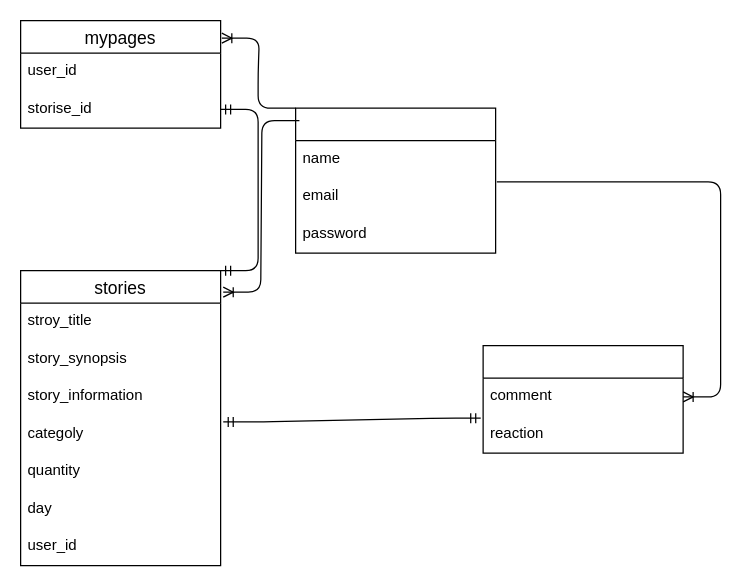
Some shapes in this 741 by 586 pixel diagram are drawn without their labels. The shapes that lost their labels are listed below. From the top down, each one's box as (x1, y1, x2, y2) in pixels, then its label:
(294, 107, 496, 253): users
(482, 344, 683, 453): comments
